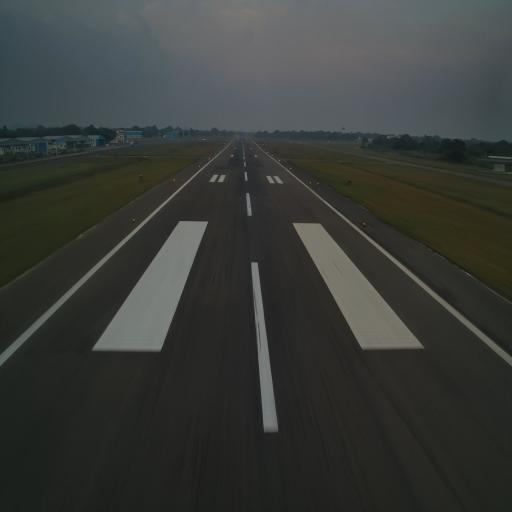on: (132, 218, 136, 222), (173, 178, 176, 183), (181, 178, 184, 183), (364, 222, 366, 226), (309, 181, 311, 184), (317, 181, 319, 184)
